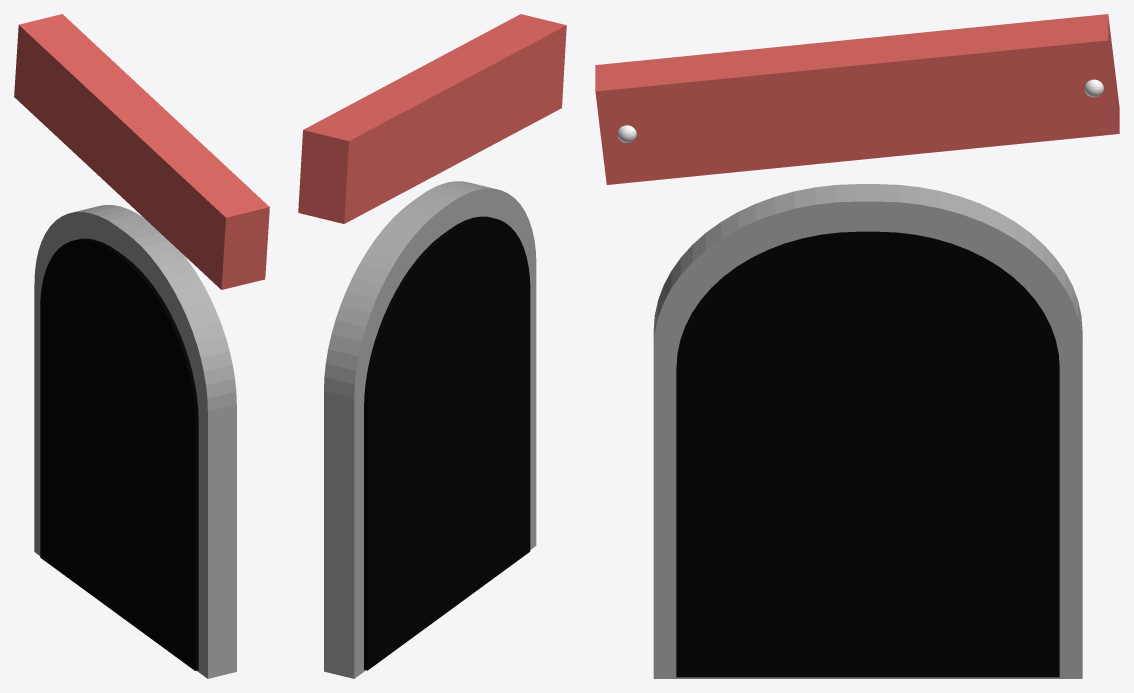
File: JerryHouse.fbx
3 renders of one model, left to right at view 1: azimuth 30°, elevation 25°; view 2: azimuth 150°, elevation 25°; view 3: azimuth 270°, elevation 25°, orthographic. The views are drawn at different scales.
Parts seen in each view (by area): view 1: Vchod, Napis, Lem; view 2: Vchod, Napis, Lem; view 3: Vchod, Napis, Lem.
Part boxes in pixels (x1=…): Vchod: x1=40, y1=238, x2=198, y2=670; Napis: x1=14, y1=14, x2=269, y2=289; Lem: x1=34, y1=205, x2=236, y2=678; Vchod: x1=364, y1=216, x2=530, y2=670; Napis: x1=298, y1=14, x2=566, y2=223; Lem: x1=324, y1=181, x2=536, y2=678; Vchod: x1=676, y1=231, x2=1059, y2=677; Napis: x1=595, y1=14, x2=1119, y2=184; Lem: x1=653, y1=184, x2=1082, y2=678.
Bounding box in the file's own units: 36.05 × 371 × 273.
